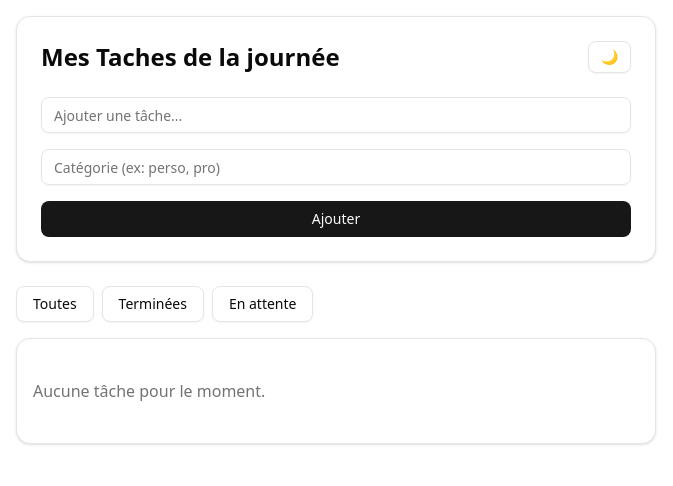
Test: App Component › deletes a task when delete button is clicked
Type "Tâche à supprimer" into the field with placeholder "Ajouter une tâche..." at point(336, 115), box x1=41 y1=97 x2=631 y2=133
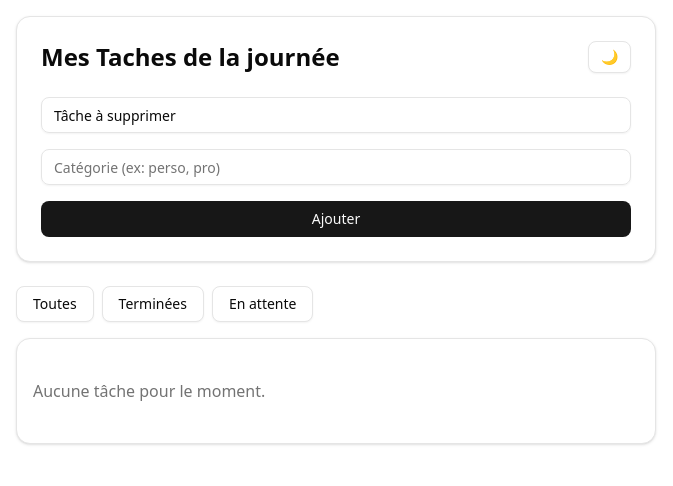
Submit the form with placeholder "Ajouter une tâche...", box x1=41 y1=97 x2=631 y2=237
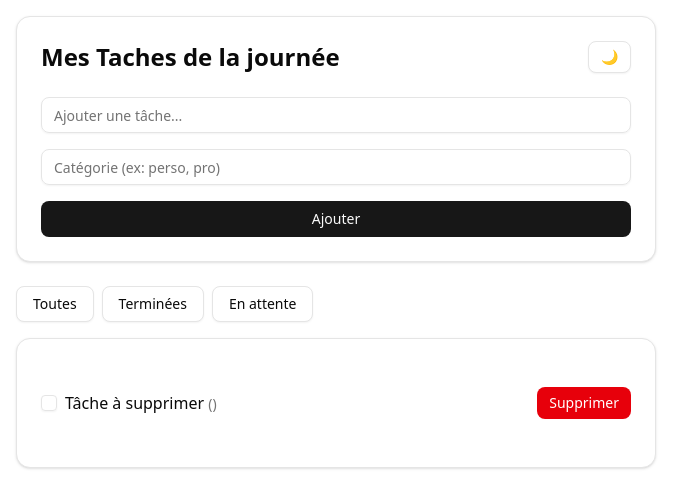
Expected: the text "Tâche à supprimer" is shown, x1=65 y1=392 x2=204 y2=414
Click the button "Supprimer" at point(584, 403), box x1=537 y1=387 x2=631 y2=419
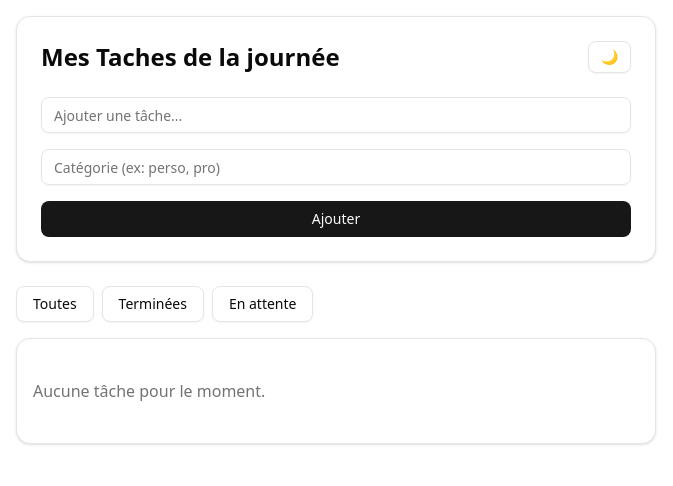
Expected: the text "Tâche à supprimer" is gone
Expected: the text "Aucune tâche pour le moment." is shown, x1=33 y1=380 x2=265 y2=402
